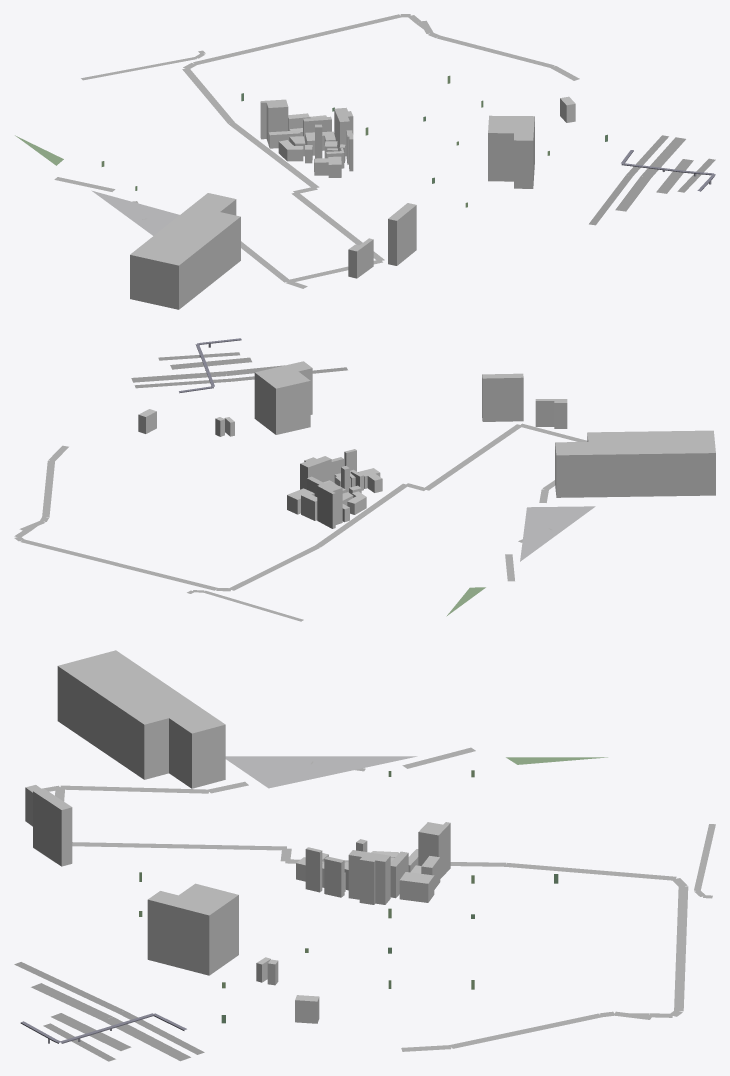
3 views of the same model, one above another, from view 1: azimuth 30°, elevation 25°; view 2: azimuth 150°, elevation 25°; view 3: azimuth 270°, elevation 25° (orthographic). The views are drawn at different scales.
Bounding box in the file's own units: 607 × 50.15 × 507.
